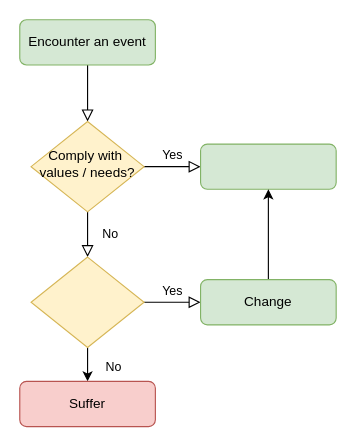
The diagram is 356 pixels wide and 446 high, and some of its shapes have lost their labels. The box of each missing label's shape, as (x1, y1, x2, y2) in pixels:
Accept: (199, 143, 336, 189)
Change situation?: (30, 256, 144, 347)
